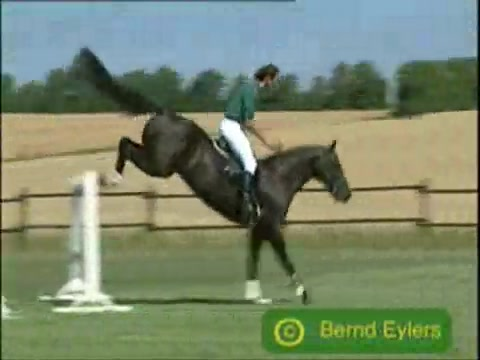horse: (80, 47, 354, 308)
